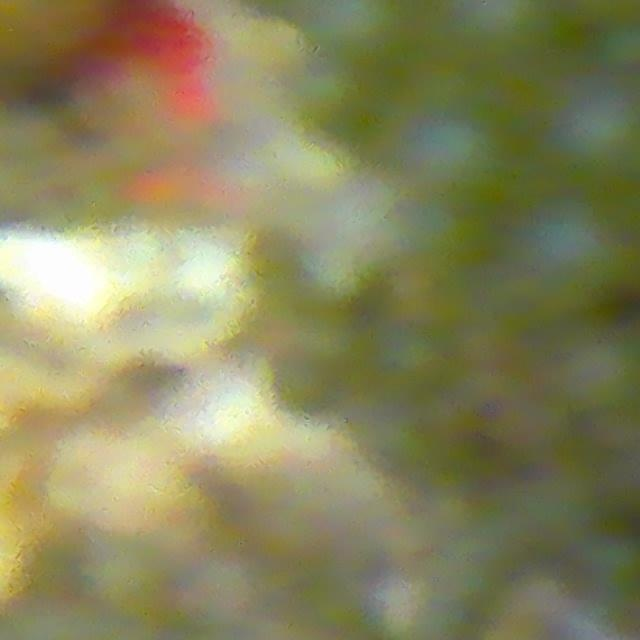SeaGrape: (403, 97, 496, 202), (549, 78, 640, 181), (296, 0, 407, 67), (560, 338, 640, 421), (458, 0, 550, 70), (522, 205, 603, 283), (299, 59, 368, 131)
